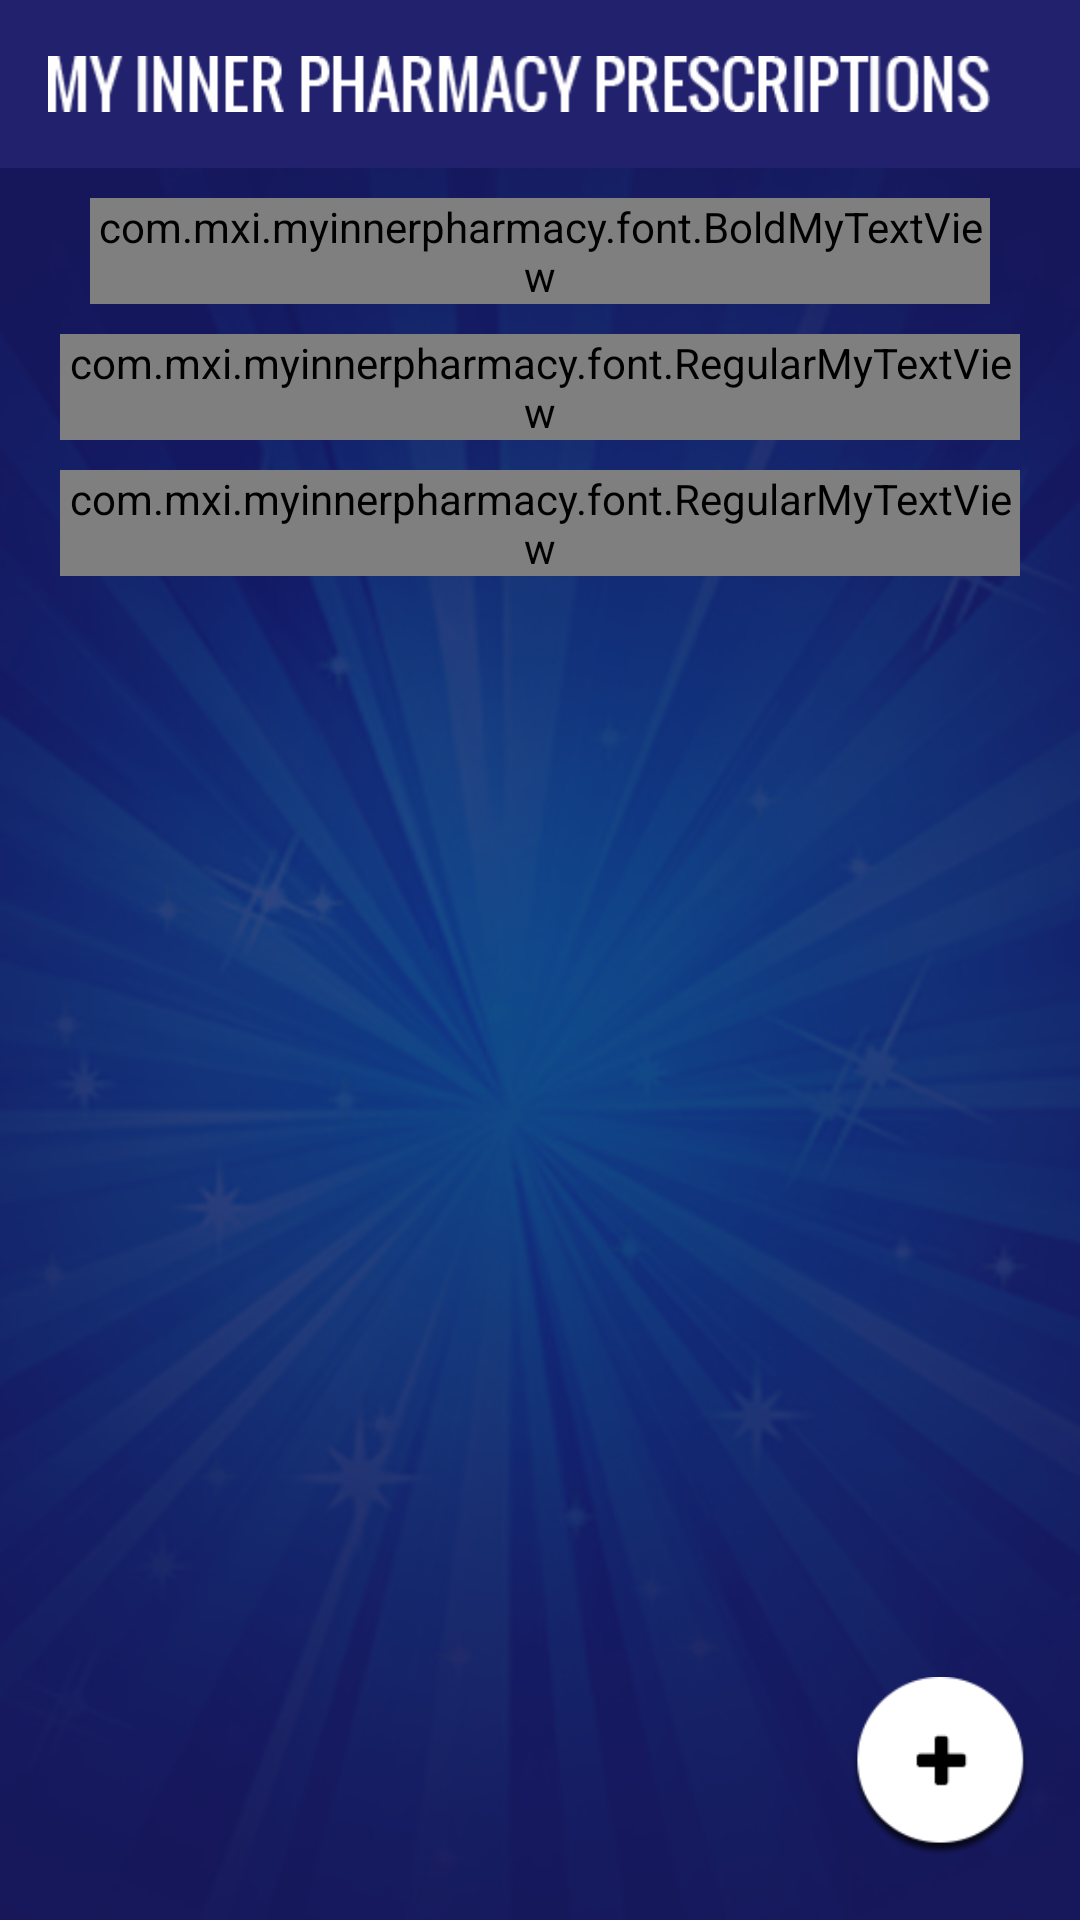

Icons on this 1080 × 1920 Android screen, each with its box as (x1, y1, x2, y2):
paushtaskadd: (857, 1677, 1024, 1851)
